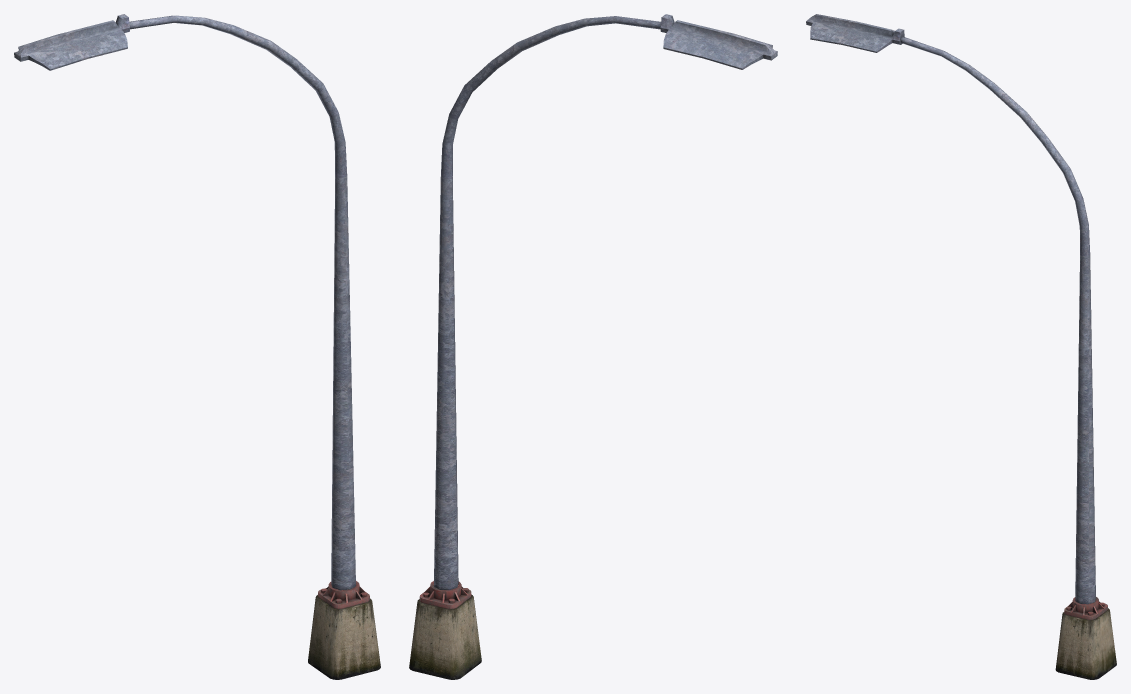
File: lamp.dae
The picture shows the model from 3 angles, left to right: view 1: azimuth 30°, elevation 25°; view 2: azimuth 150°, elevation 25°; view 3: azimuth 330°, elevation 25°; orthographic projection. The views are drawn at different scales.
Parts seen in each view (by area): view 1: street_lamp; view 2: street_lamp; view 3: street_lamp.
Boxes of the visible parts, x1=… form: street_lamp: x1=14, y1=14, x2=380, y2=679; street_lamp: x1=409, y1=14, x2=777, y2=679; street_lamp: x1=806, y1=14, x2=1116, y2=679.
Bounding box in the file's own units: 73.48 × 139 × 11.51.
